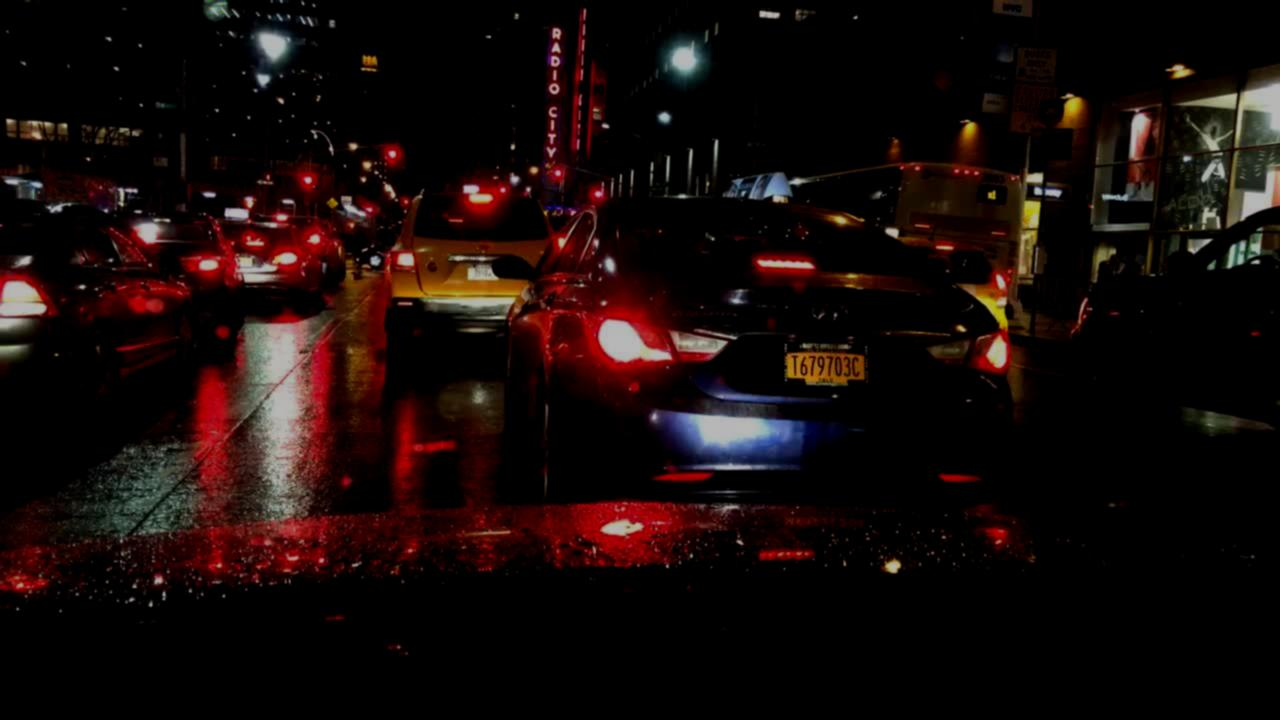Hyundai: (801, 289, 859, 331)
